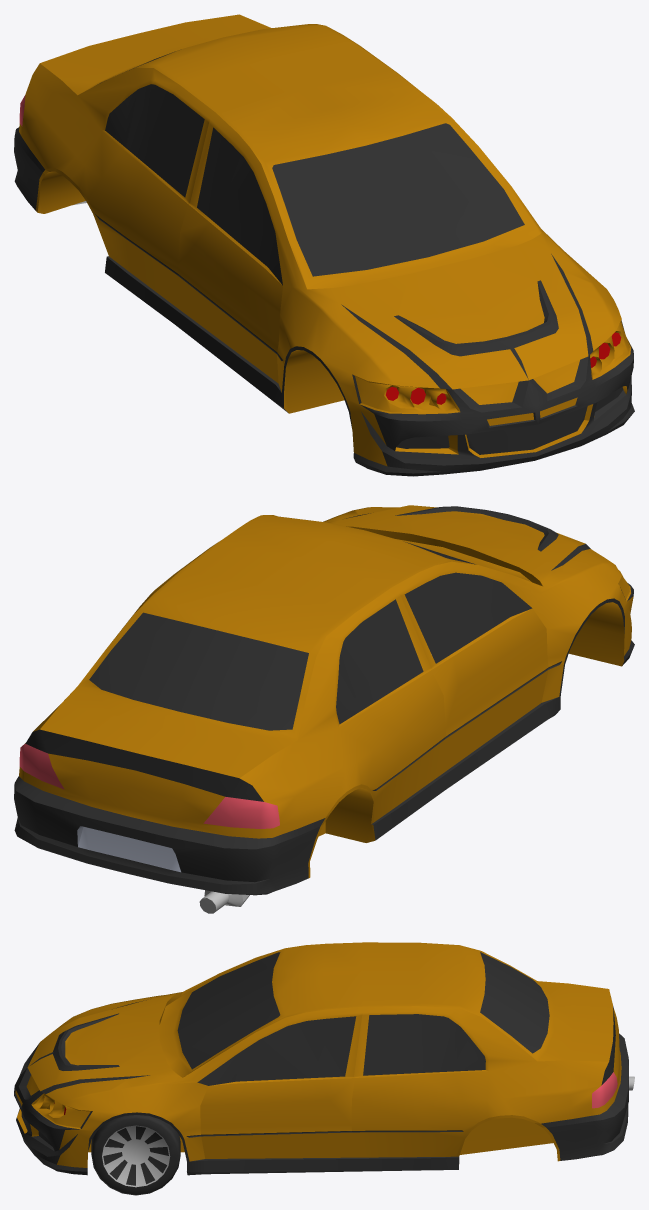
File: car_6.fbx
3 renders of one model, top to bottom at view 1: azimuth 30°, elevation 25°; view 2: azimuth 150°, elevation 25°; view 3: azimuth 270°, elevation 25°, orthographic. The views are drawn at different scales.
Visible parts, largest first — view 1: body_geo, body_geo.002; view 2: body_geo, body_geo.002; view 3: body_geo, body_geo.002, L_front_wheel_geo #370597.003.
Boxes of the visible parts, left/top/right/bottom form: body_geo: left=14, top=14, right=634, bottom=476; body_geo.002: left=97, top=51, right=524, bottom=285; body_geo: left=14, top=505, right=634, bottom=913; body_geo.002: left=89, top=542, right=532, bottom=730; body_geo: left=14, top=942, right=634, bottom=1175; body_geo.002: left=177, top=952, right=549, bottom=1085; L_front_wheel_geo #370597.003: left=91, top=1115, right=180, bottom=1195.
Size of the model in its own units: 176 by 136 by 440.
